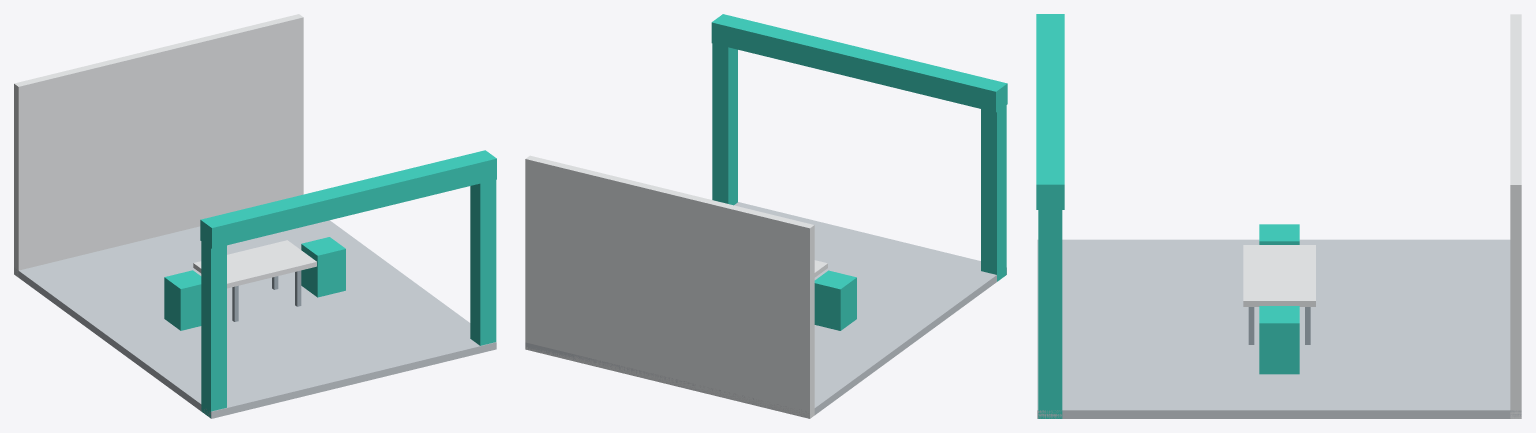
3 renders of one model, left to right at view 1: azimuth 30°, elevation 25°; view 2: azimuth 150°, elevation 25°; view 3: azimuth 270°, elevation 25°, orthographic. The views are drawn at different scales.
Parts seen in each view (by area): view 1: Exhibition Booth Concept; view 2: Exhibition Booth Concept; view 3: Exhibition Booth Concept.
Boxes of the visible parts, x1,y1,x2,y2 form: Exhibition Booth Concept: [14, 14, 496, 418]; Exhibition Booth Concept: [525, 14, 1007, 418]; Exhibition Booth Concept: [1036, 14, 1521, 418].
Size of the model in its own units: 5 by 3.2 by 6.02.
